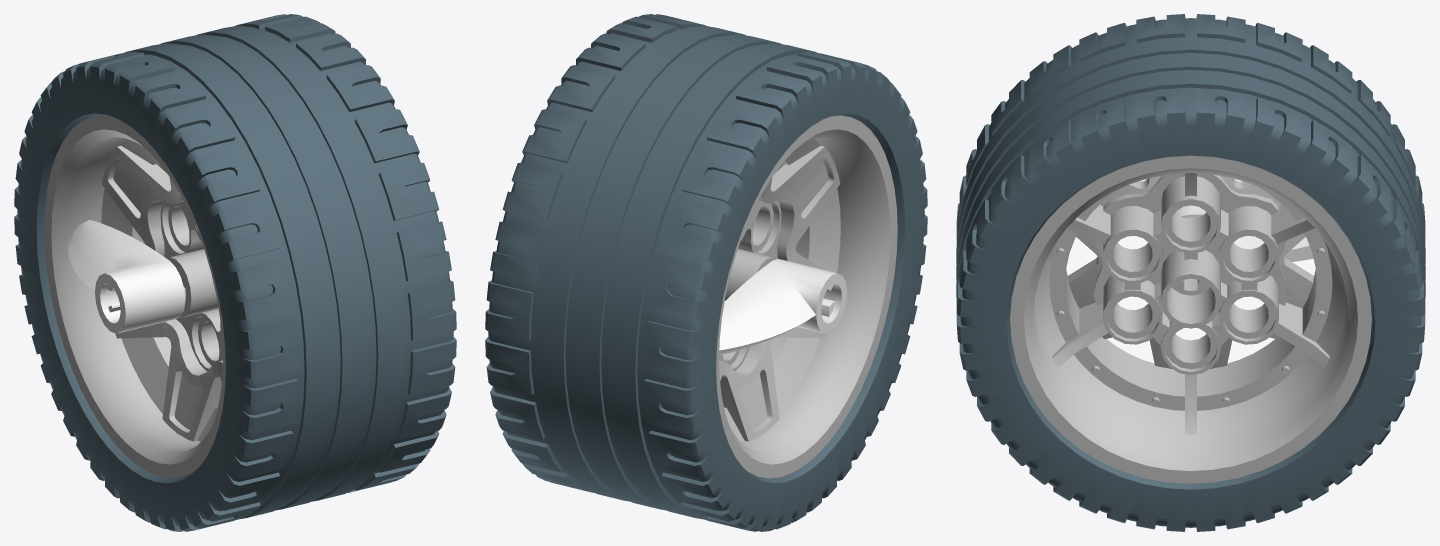
Rendered from modelo_base_diff_wheel_left_v2.dae.
3 renders of one model, left to right at view 1: azimuth 30°, elevation 25°; view 2: azimuth 150°, elevation 25°; view 3: azimuth 270°, elevation 25°, orthographic. The views are drawn at different scales.
Parts seen in each view (by area): view 1: Object, Object.001, Object.002; view 2: Object, Object.001, Object.002; view 3: Object, Object.001, Object.002.
Part boxes in pixels (x1,y1,x2,y2): Object: (14,14,456,531); Object.001: (44,115,225,478); Object.002: (68,220,185,333); Object: (485,14,927,531); Object.001: (716,115,897,478); Object.002: (719,259,846,354); Object: (956,14,1425,531); Object.001: (1010,155,1371,483); Object.002: (1175,205,1313,261).
Size of the model in its own units: 0.0308 by 0.056 by 0.056.
